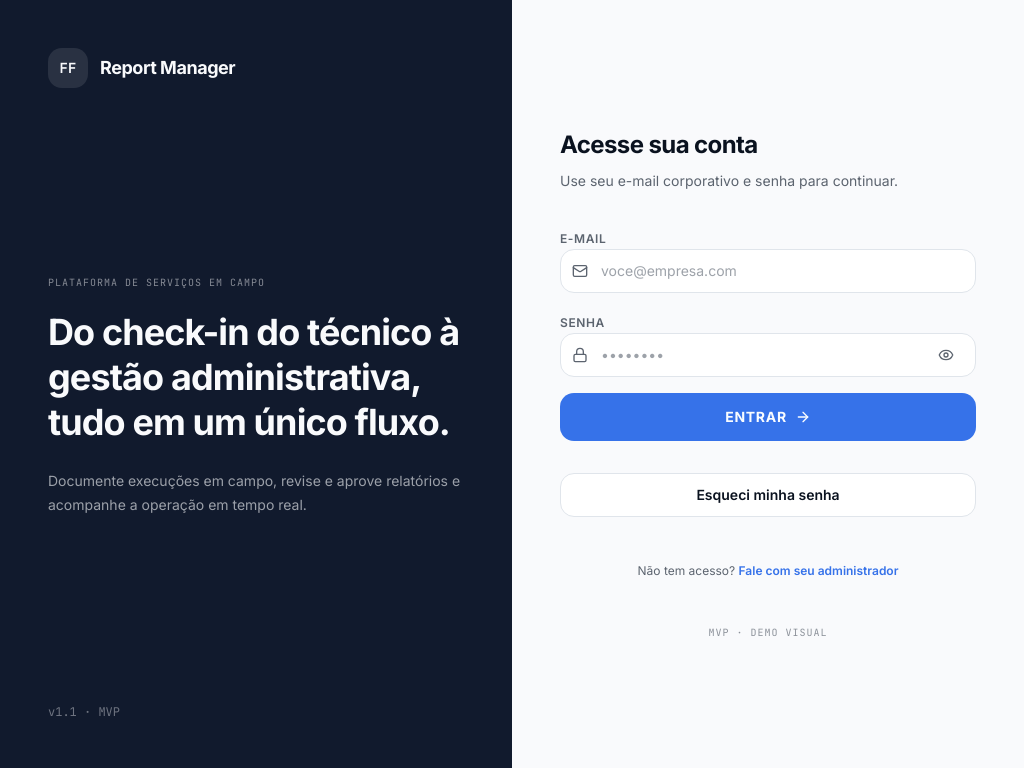
Scenario: App › signs an administrator in with the mock authentication adapter
Type "admin@fieldflow.local" into the field labelled "E-mail".
click(768, 270); type("admin@fieldflow.local")  # box [560,248,976,292]
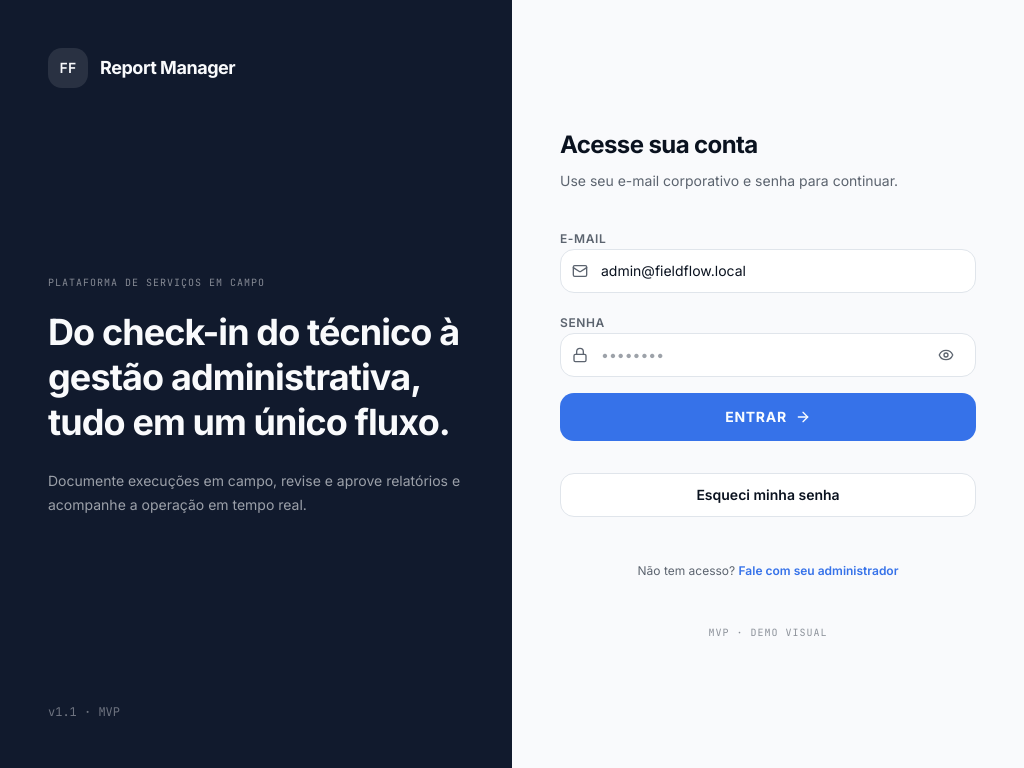
Type "admin123" into the password field labelled "Senha".
click(768, 354); type("admin123")  # box [560,332,976,376]
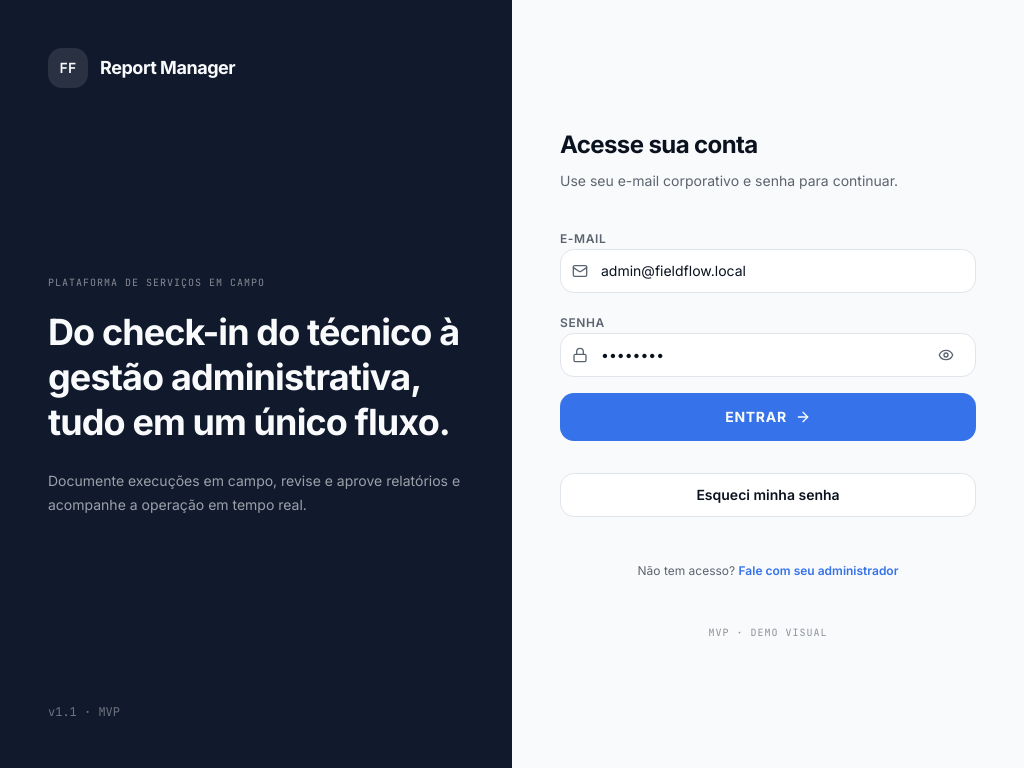
Click the button "Entrar".
click(768, 416)  # box [560,392,976,440]
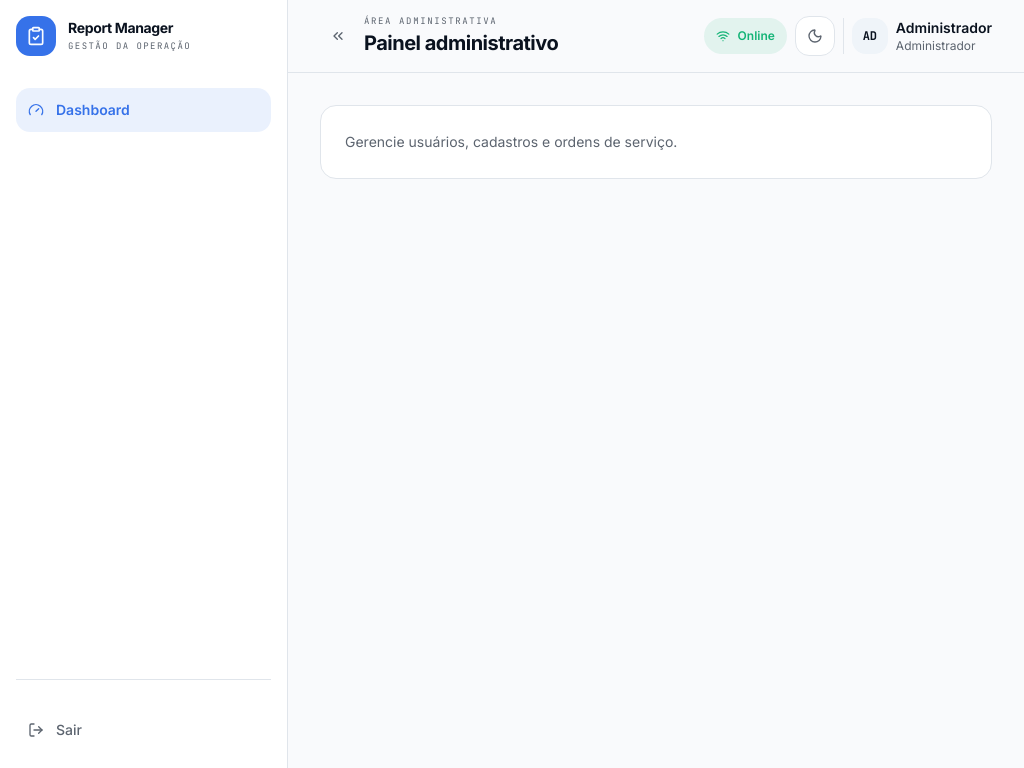
Expected: the heading "Painel administrativo" is shown, [364,29,558,57]
